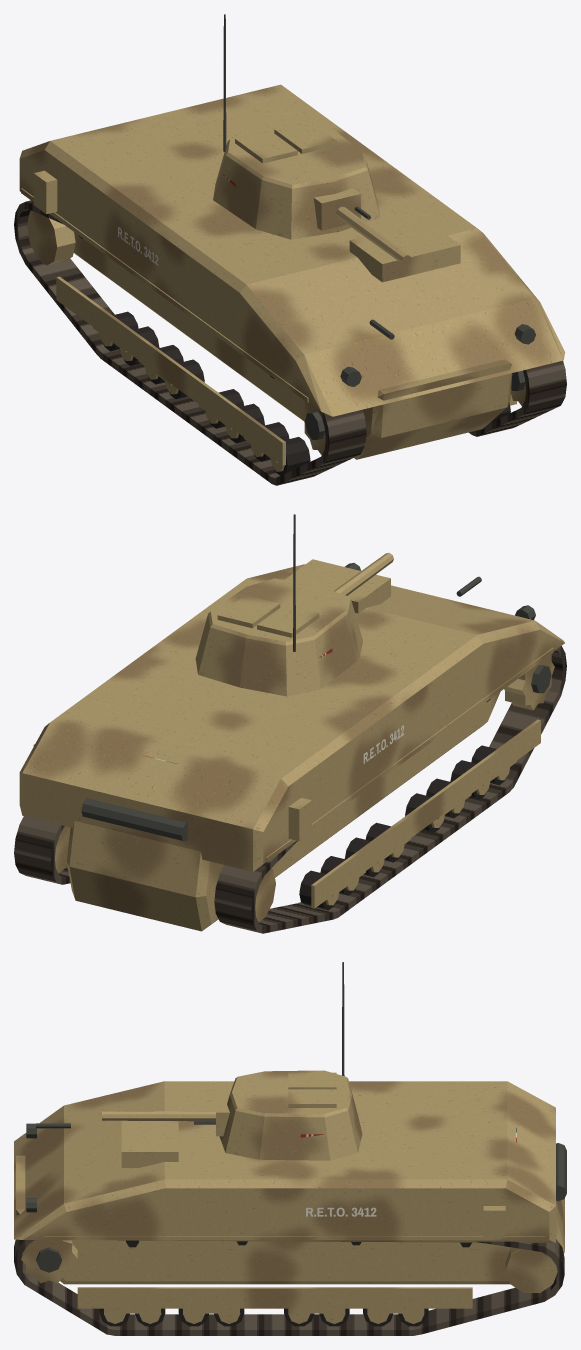
The model's file is armor-2.glb.
3 renders of one model, top to bottom at view 1: azimuth 30°, elevation 25°; view 2: azimuth 150°, elevation 25°; view 3: azimuth 270°, elevation 25°, orthographic. The views are drawn at different scales.
Parts seen in each view (by area): view 1: superstructure, caisse, tourelle, tracks_right, jupe_right, caisson_pilote, tracks_left, roue_folle_right_jante, garde_boue_right, masque, trappe_d, trappe_g (+3 smaller); view 2: superstructure, caisse, tourelle, tracks_right, jupe_right, tracks_left, caisson_pilote, echappement, garde_boue_right, trappe_g, trappe_d, barbotin_right_couronne (+4 smaller); view 3: superstructure, caisse, tracks_left, tourelle, jupe_left, caisson_pilote, garde_boue_left, roue_folle_left_jante, barbotin_left_couronne, tube, trappe_g, trappe_d (+4 smaller).
Part boxes in pixels (x1,y1,x2,y2): superstructure: [19, 84, 565, 416]; caisse: [73, 232, 512, 459]; tourelle: [213, 121, 380, 239]; tracks_right: [14, 200, 366, 485]; jupe_right: [56, 276, 285, 465]; caisson_pilote: [349, 221, 460, 282]; tracks_left: [469, 361, 566, 436]; roue_folle_right_jante: [27, 210, 75, 265]; garde_boue_right: [21, 188, 308, 402]; masque: [313, 188, 360, 230]; trappe_d: [235, 130, 297, 163]; trappe_g: [274, 121, 336, 153]; superstructure: [19, 564, 564, 871]; caisse: [66, 691, 500, 931]; tourelle: [195, 578, 362, 696]; tracks_right: [214, 646, 566, 933]; jupe_right: [311, 719, 540, 908]; tracks_left: [14, 816, 70, 884]; caisson_pilote: [284, 559, 390, 613]; echappement: [81, 798, 187, 840]; garde_boue_right: [266, 648, 553, 862]; trappe_g: [217, 595, 280, 628]; trappe_d: [257, 604, 319, 637]; barbotin_right_couronne: [504, 654, 554, 710]; superstructure: [14, 1081, 555, 1242]; caisse: [16, 1155, 564, 1284]; tracks_left: [14, 1239, 564, 1335]; tourelle: [219, 1070, 362, 1160]; jupe_left: [77, 1287, 472, 1308]; caisson_pilote: [121, 1120, 178, 1167]; garde_boue_left: [44, 1236, 544, 1240]; roue_folle_left_jante: [505, 1247, 557, 1292]; barbotin_left_couronne: [21, 1240, 77, 1283]; tube: [102, 1111, 215, 1121]; trappe_g: [288, 1089, 336, 1107]; trappe_d: [288, 1072, 336, 1089].
Size of the model in its own units: 1.22 by 1.55 by 2.52.
Materials: 7 (5 with a texture image).
